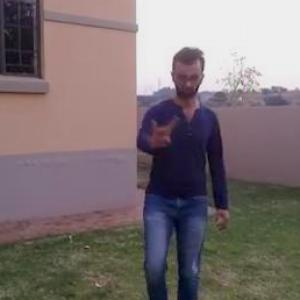takeoff-hand: (143, 108, 180, 152)
